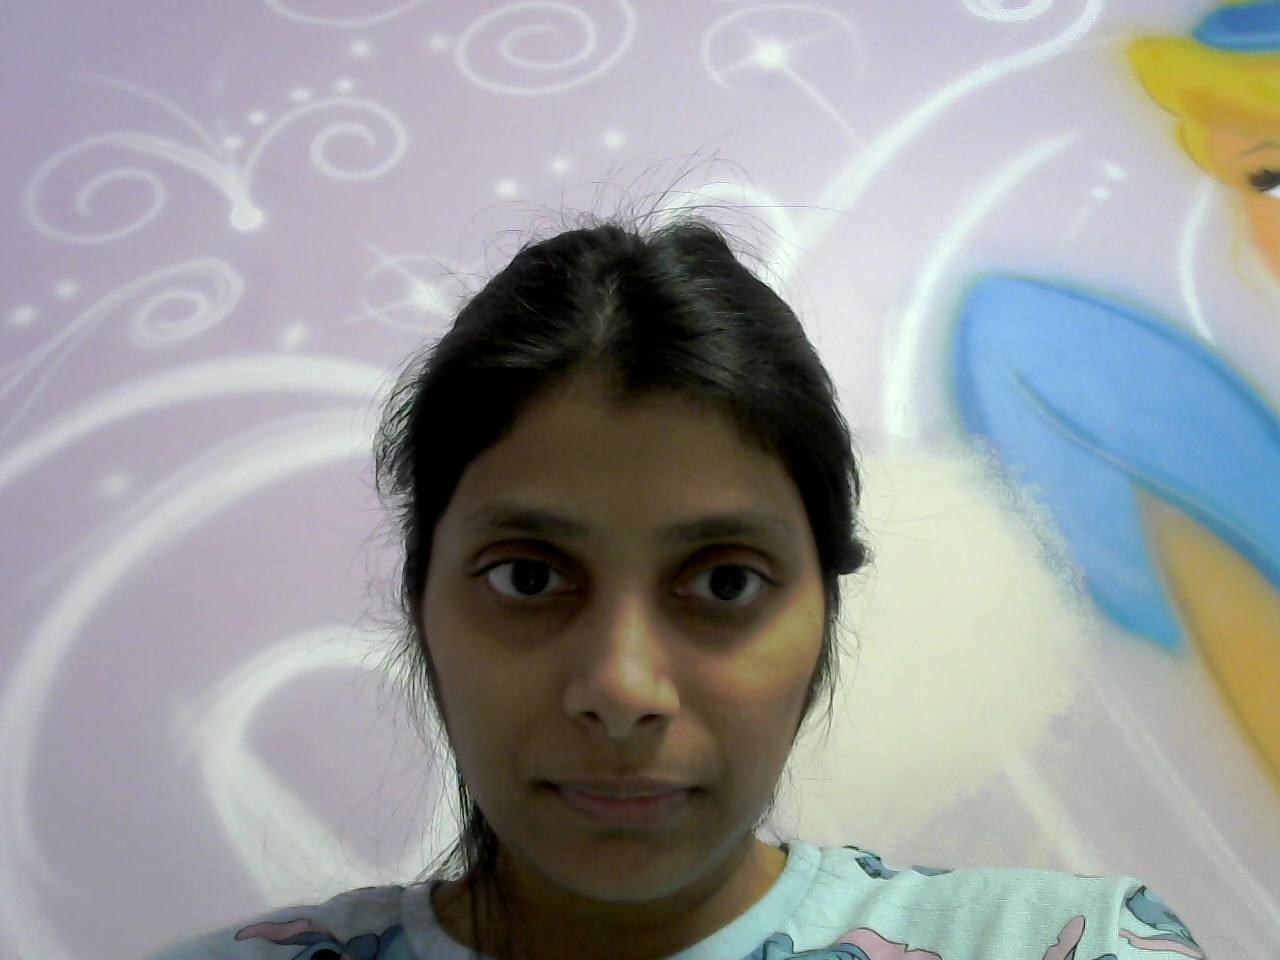no_mask: (403, 621, 819, 909)
